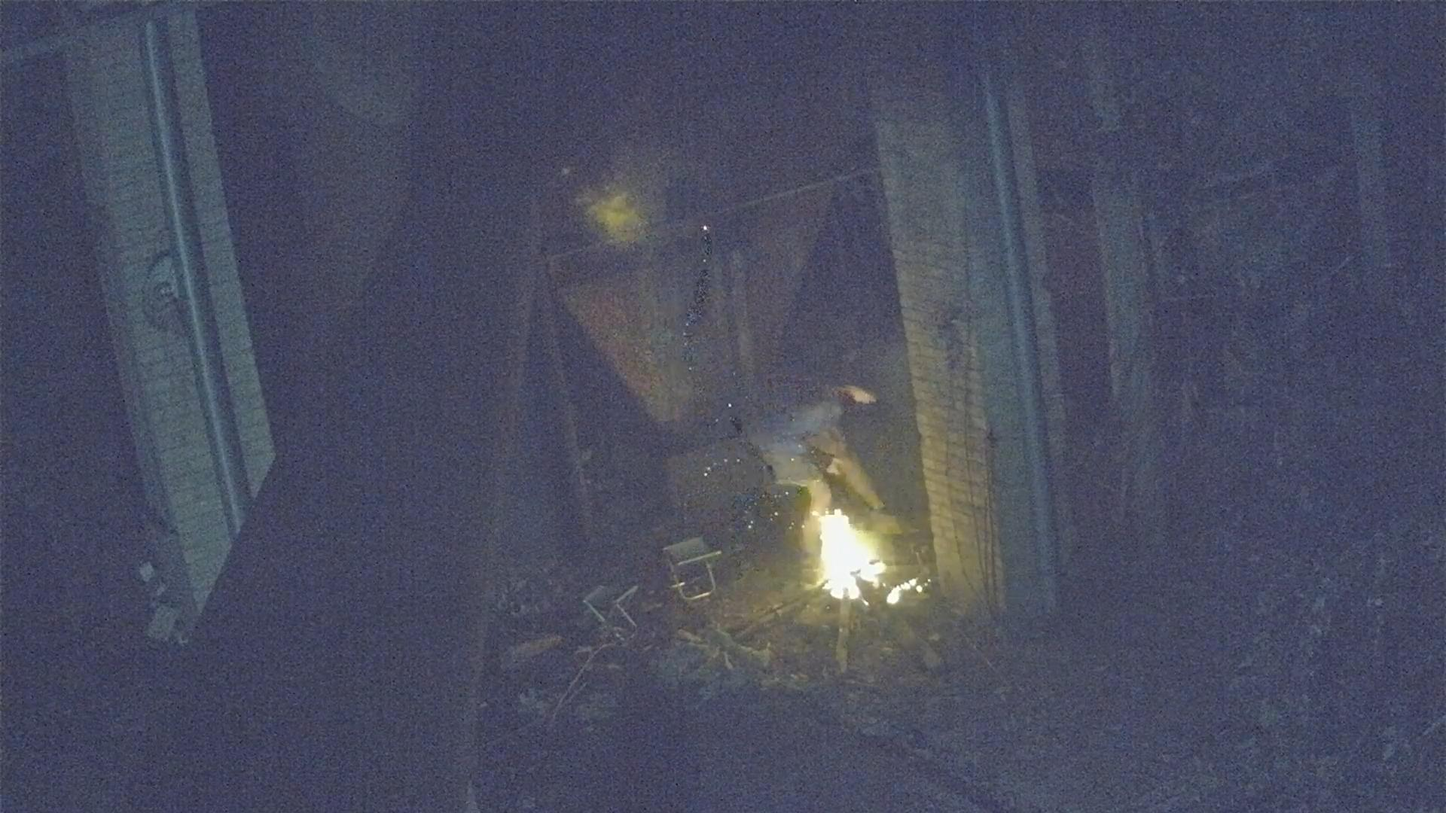fire: (817, 510, 886, 602)
